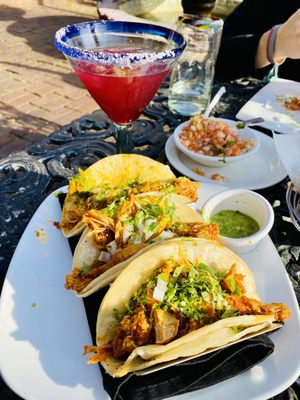sandwich: (103, 337, 276, 400)
sushi: (88, 236, 293, 378), (200, 189, 275, 255), (174, 115, 260, 168)
